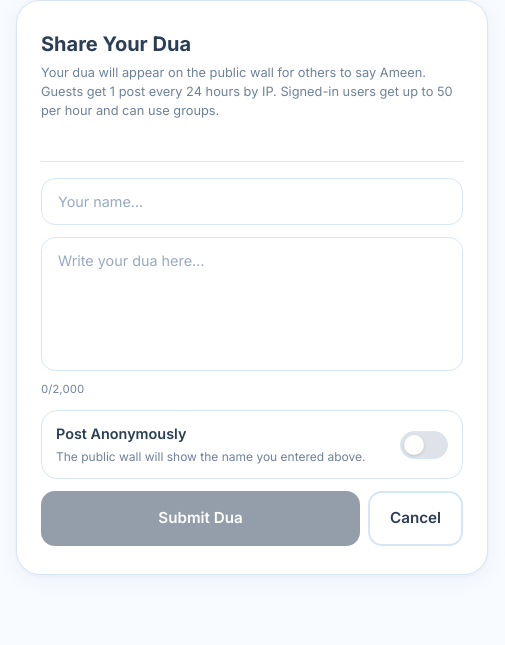
SubmitDuaCard › shows the review message when a guest submission is queued
The width and height of the screenshot is (505, 645).
Type "Fatima" into the field labelled "Your name…".
click(252, 201); type("Fatima")  # box 41,178 -> 463,225
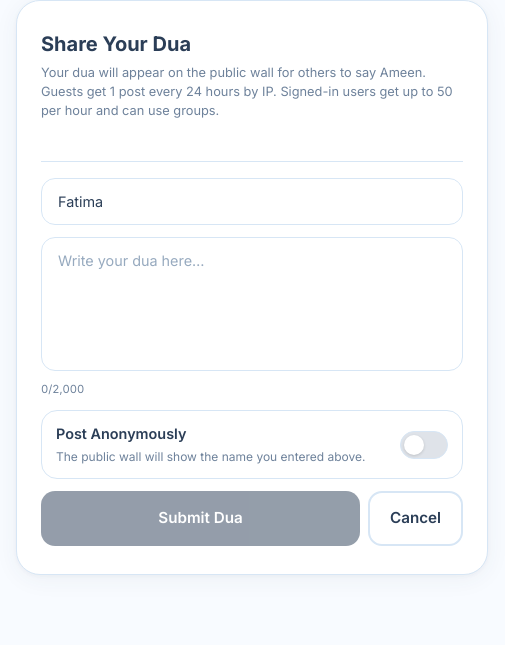
Type "Call me at 555-555-5555 about this." into the text box labelled "Write your dua here…".
click(252, 304); type("Call me at 555-555-5555 about this.")  # box 41,237 -> 463,371
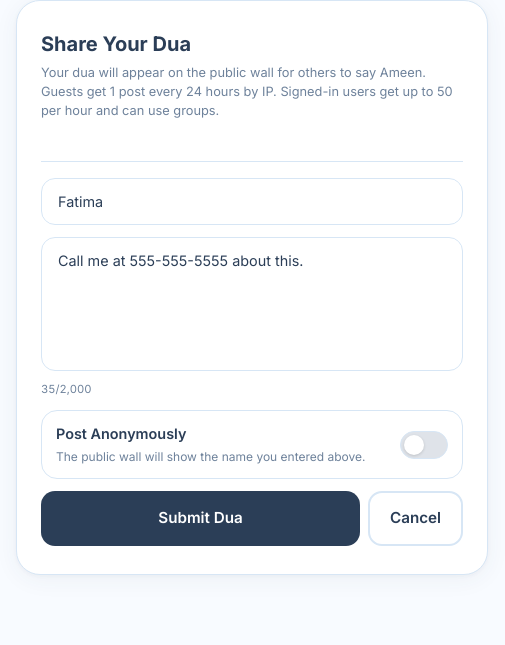
Click the button "Submit Dua".
click(200, 519)  # box 41,491 -> 360,546
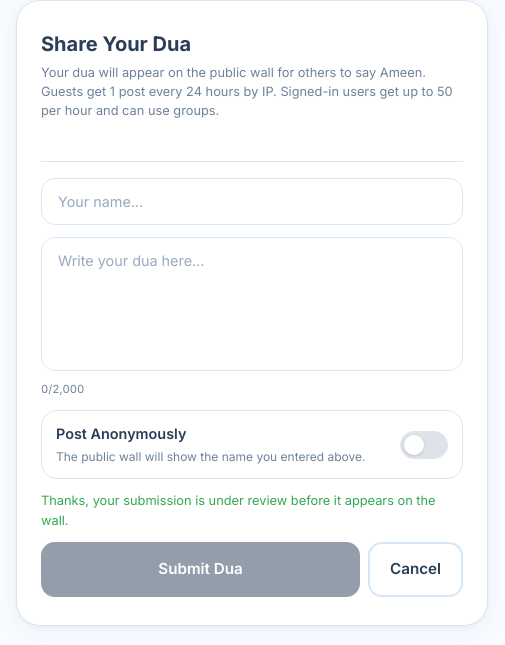
Check: the text "Thanks, your submission is under review before it appears on the wall." is shown, box 41,491 -> 463,530
